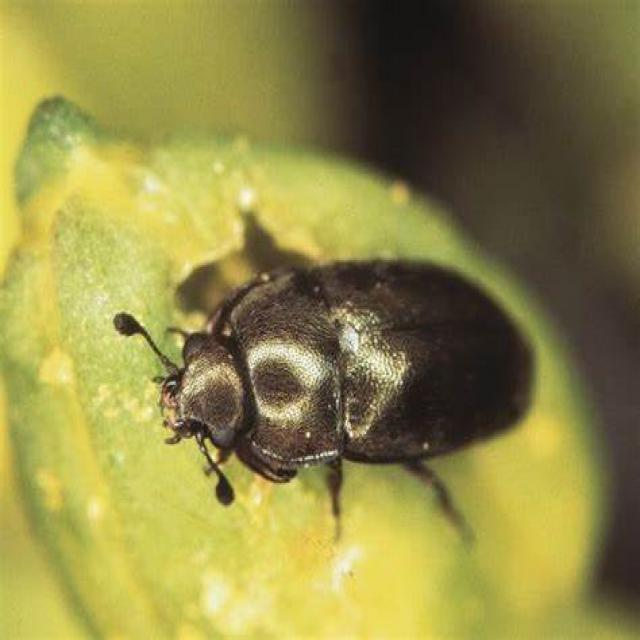pollen_beetle: (99, 247, 546, 537)
